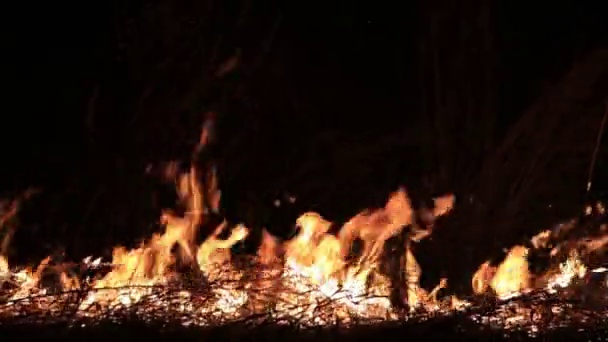fire: (78, 170, 249, 323), (280, 184, 456, 320), (473, 245, 534, 301), (1, 256, 55, 309), (546, 251, 586, 292), (256, 228, 277, 264)
